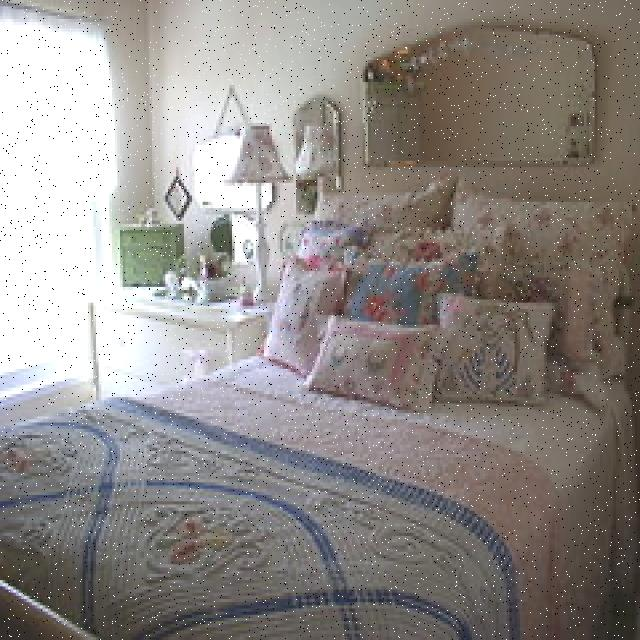bed: (12, 181, 622, 640)
